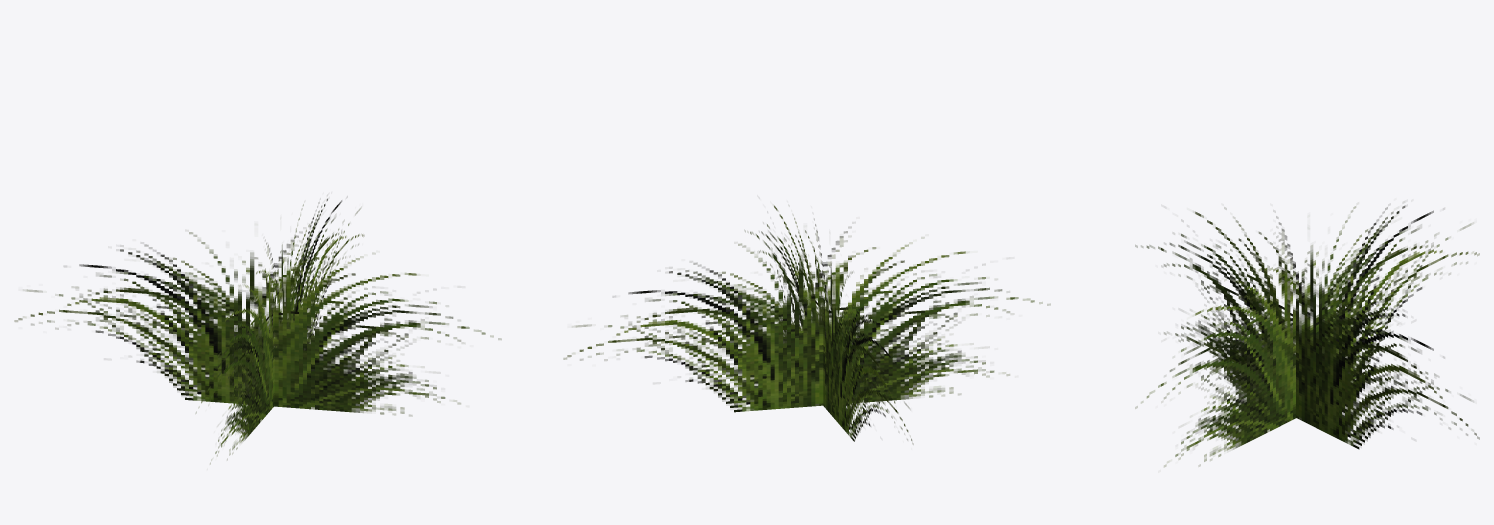
The model's file is grass2.glb.
The picture shows the model from 3 angles, left to right: view 1: azimuth 30°, elevation 25°; view 2: azimuth 150°, elevation 25°; view 3: azimuth 270°, elevation 25°; orthographic projection. The views are drawn at different scales.
Parts seen in each view (by area): view 1: grass; view 2: grass; view 3: grass.
Part boxes in pixels (left/top/right/bottom): grass: left=14, top=195, right=501, bottom=464; grass: left=563, top=205, right=1050, bottom=444; grass: left=1135, top=201, right=1479, bottom=467.
Size of the model in its own units: 0.766 by 0.601 by 0.6428.
Materials: 1 (1 with a texture image).
